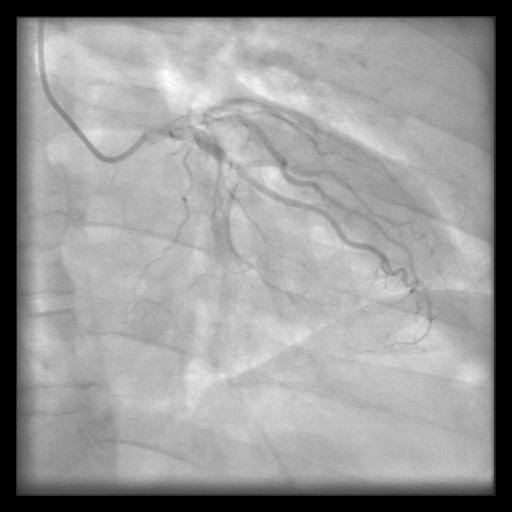Stenosis: (223, 149, 232, 166)
